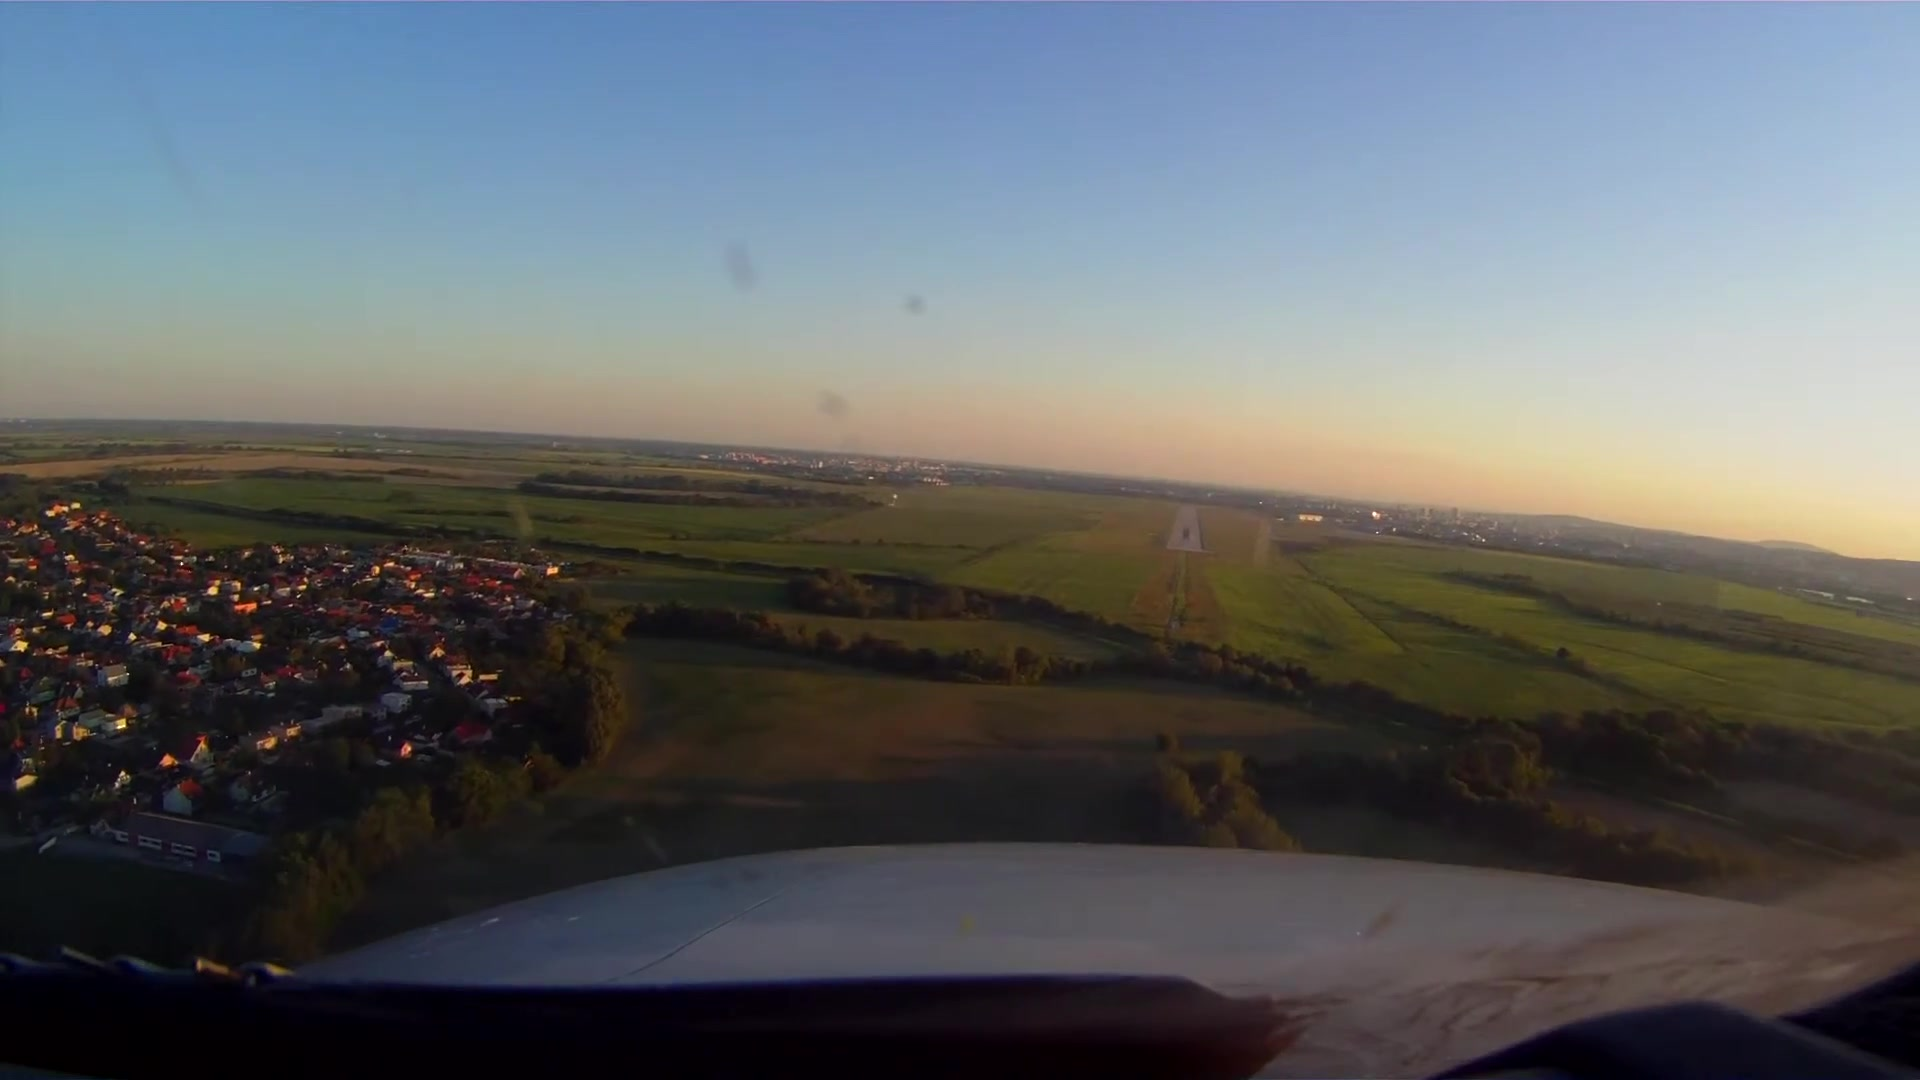runway: (1162, 500, 1211, 554)
